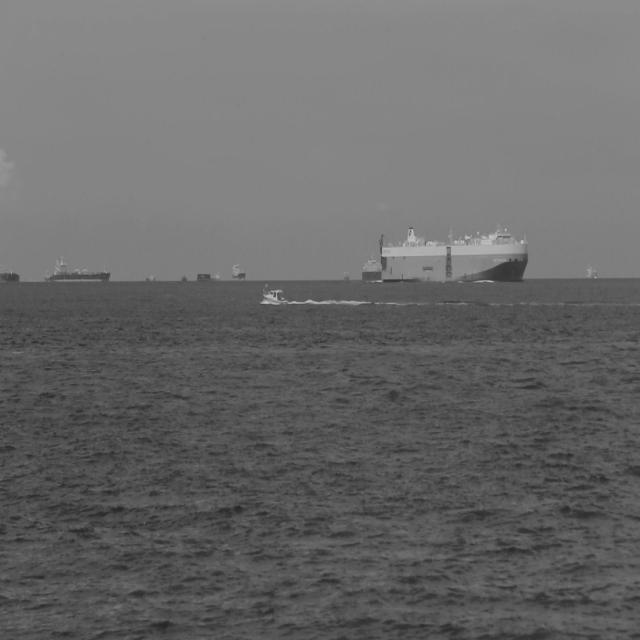ship: (377, 222, 528, 284), (42, 254, 112, 284), (262, 281, 290, 305), (361, 254, 382, 282), (230, 260, 247, 282), (0, 268, 20, 284), (196, 270, 212, 284), (144, 272, 156, 284), (179, 273, 188, 283), (213, 272, 221, 283)
